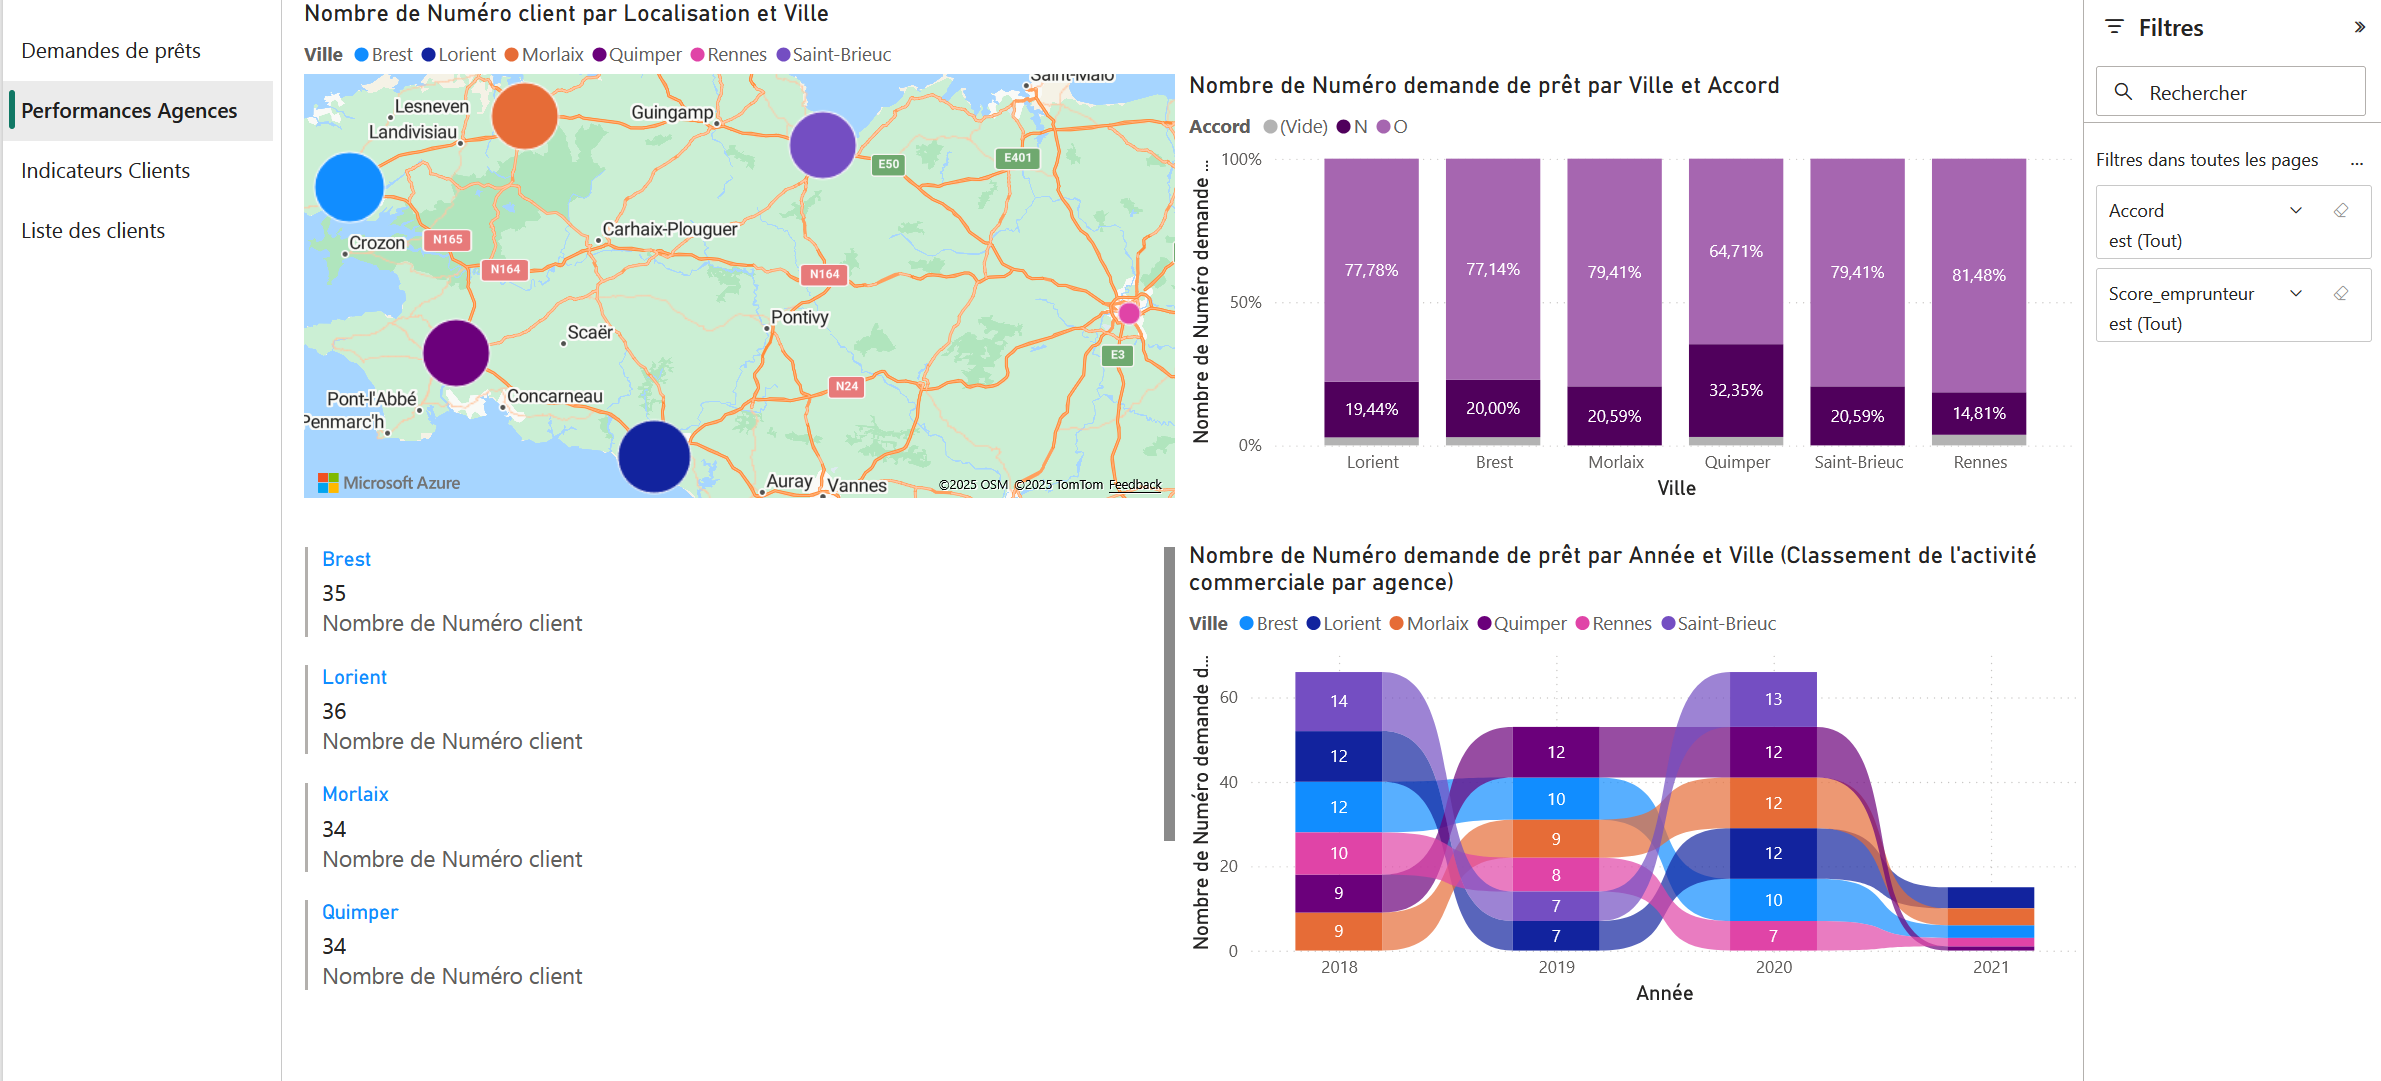

The page's visual inventory and layout, read from the dashboard file:
{"tool":"powerbi","page":{"name":"Performances Agences","canvas":[1280,720],"ordinal":1},"visuals":[{"type":"azureMap","fields":{"Category":["Agences.Localisation"],"Size":["CountNonNull(Demandes de pret.Numéro client)"],"Series":["Agences.Ville"]},"box":[10.4,0,629.2,360.4],"z":0},{"type":"multiRowCard","fields":{"Values":["Agences.Ville","Demandes de pret.Numéro client"]},"box":[10.4,384.7,629.2,334.9],"z":1000},{"type":"hundredPercentStackedColumnChart","fields":{"Category":["Agences.Ville"],"Y":["CountNonNull(Demandes de pret.Numéro demande de prêt)"],"Series":["Demandes de pret.Accord"]},"box":[639.6,51,640.8,309.4],"z":2000},{"type":"ribbonChart","title":"Nombre de Numéro demande de prêt par Année et Ville (Classement de l''activité commerciale par agence)","fields":{"Category":["Demandes de pret.Date de demande.Variation.Hiérarchie de dates.Année","Demandes de pret.Date de demande.Variation.Hiérarchie de dates.Trimestre","Demandes de pret.Date de demande.Variation.Hiérarchie de dates.Mois","Demandes de pret.Date de demande.Variation.Hiérarchie de dates.Jour"],"Y":["CountNonNull(Demandes de pret.Numéro demande de prêt)"],"Series":["Agences.Ville"]},"box":[639.6,384.7,640.8,334.9],"z":3000}]}

Visuals, with their boxes on the page's 1280x720 design canvas (x1, y1, x2, y2). These are canvas units, not pixel positions in the 2381x1081 screenshot, which may show the page scaled, cropped or inside an application window:
azureMap - Agences.Localisation x CountNonNull(Demandes de pret.Numéro client): box(10, 0, 640, 360)
multiRowCard - Agences.Ville x Demandes de pret.Numéro client: box(10, 385, 640, 720)
hundredPercentStackedColumnChart - Agences.Ville x CountNonNull(Demandes de pret.Numéro demande de prêt): box(640, 51, 1280, 360)
"Nombre de Numéro demande de prêt par Année et Ville (Classement de l''activité commerciale par agence)" ribbonChart: box(640, 385, 1280, 720)
